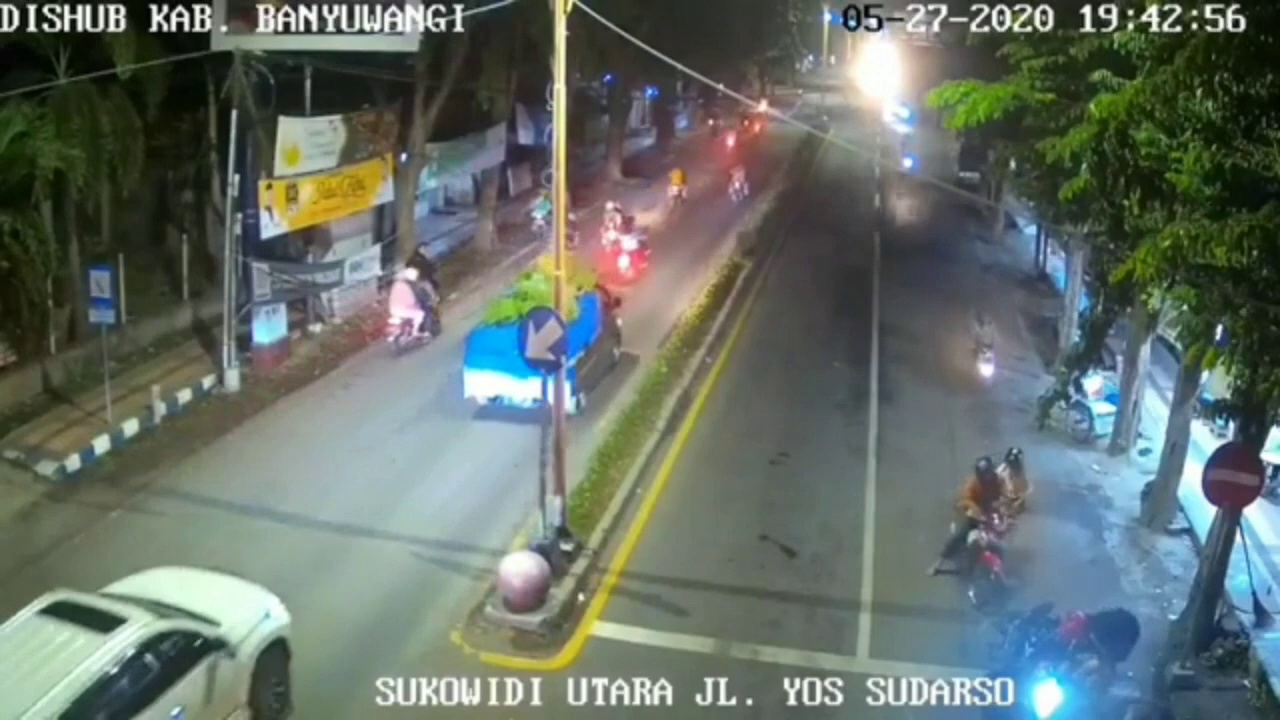car: (1, 555, 292, 720), (463, 282, 623, 414)
motorbike: (988, 601, 1080, 717), (952, 449, 1012, 611), (381, 238, 443, 345), (609, 219, 652, 286), (971, 311, 1001, 392), (527, 188, 551, 248), (668, 161, 689, 215), (730, 159, 754, 202)
